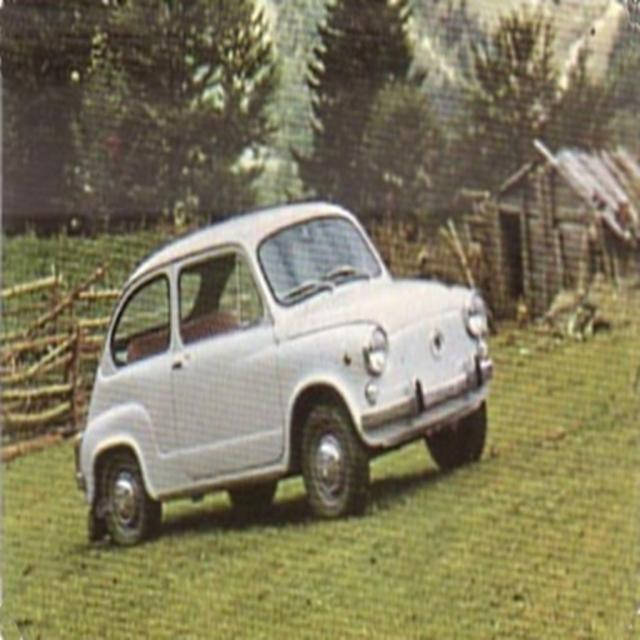car: (79, 192, 480, 528)
